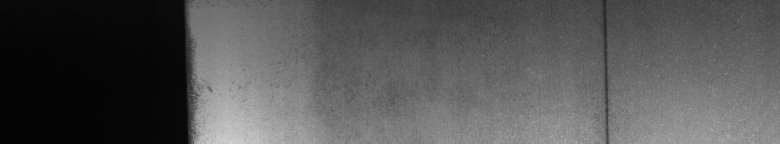hd: (597, 4, 616, 136)
